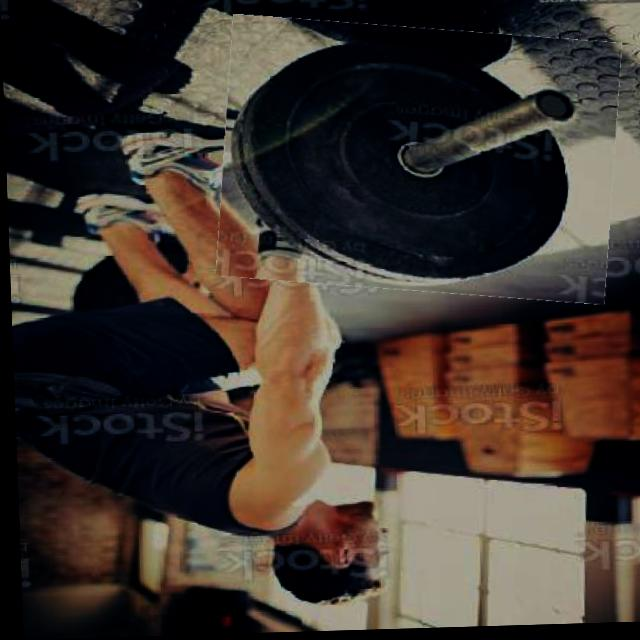barbell: (214, 17, 623, 308)
